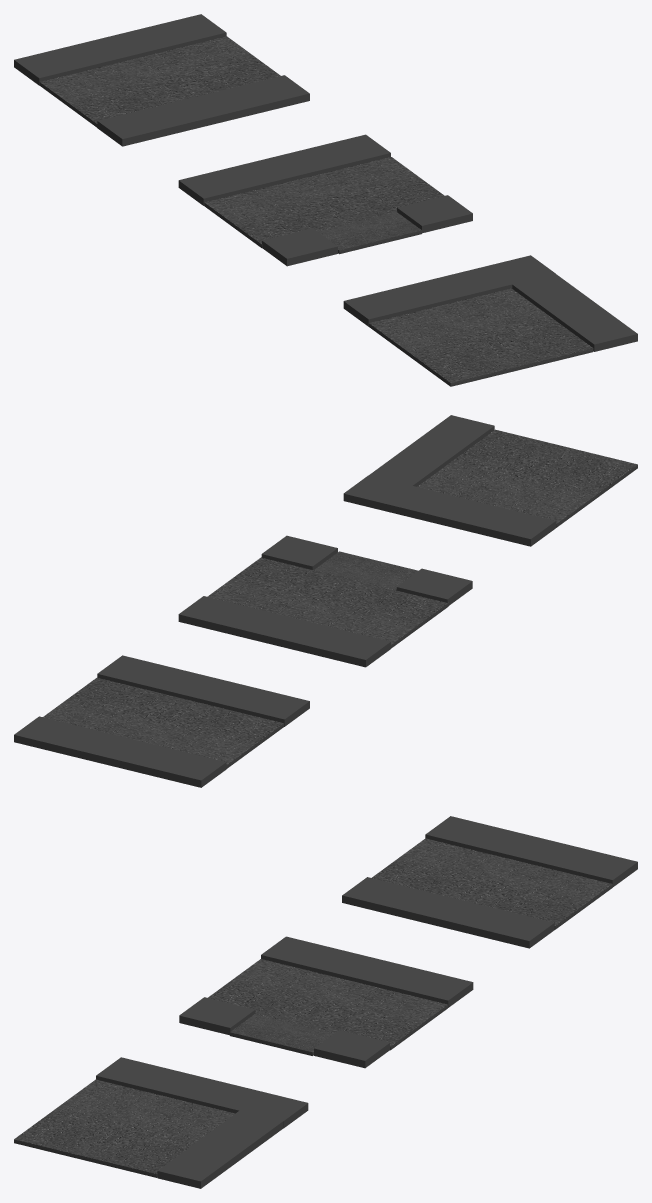
File: Carreteras.fbx
The picture shows the model from 3 angles, top to bottom: view 1: azimuth 30°, elevation 25°; view 2: azimuth 150°, elevation 25°; view 3: azimuth 330°, elevation 25°; orthographic projection.
Parts seen in each view (by area): view 1: Calle004, Calle2, Box003, Box001, Box3, Box002, Box006, Box007, Calle3, Box5, Box4; view 2: Calle004, Box003, Calle2, Box3, Box002, Box006, Box001, Box007, Calle3, Box5, Box4; view 3: Calle004, Calle2, Box003, Box001, Box3, Box002, Box006, Box007, Calle3, Box4, Box5.
Part boxes in pixels (x1,y1,x2,y2): Calle004: (369, 288, 593, 386); Calle2: (204, 157, 444, 247); Box003: (39, 36, 280, 127); Box001: (97, 75, 309, 146); Box3: (178, 134, 390, 205); Box002: (14, 14, 226, 85); Box006: (343, 255, 555, 326); Box007: (512, 273, 637, 351); Calle3: (317, 212, 421, 254); Box5: (262, 228, 337, 266); Box4: (397, 195, 472, 233); Calle004: (417, 429, 637, 527); Box003: (43, 677, 283, 768); Calle2: (207, 557, 448, 648); Box3: (178, 596, 390, 667); Box002: (14, 716, 226, 787); Box006: (343, 475, 555, 546); Box001: (97, 655, 309, 726); Box007: (369, 415, 494, 486); Calle3: (314, 551, 418, 589); Box5: (396, 568, 472, 605); Box4: (261, 535, 337, 569); Calle004: (14, 1079, 234, 1177); Calle2: (208, 959, 447, 1050); Box003: (372, 838, 612, 929); Box001: (342, 877, 554, 948); Box3: (261, 936, 473, 1007); Box002: (425, 816, 637, 887); Box006: (96, 1057, 308, 1128); Box007: (157, 1110, 282, 1188); Calle3: (230, 1013, 334, 1055); Box4: (314, 1030, 390, 1068); Box5: (179, 997, 255, 1035).
Bounding box in the file's own units: 19.72 × 0.7485 × 79.6.
2 materials, 1 textured.
